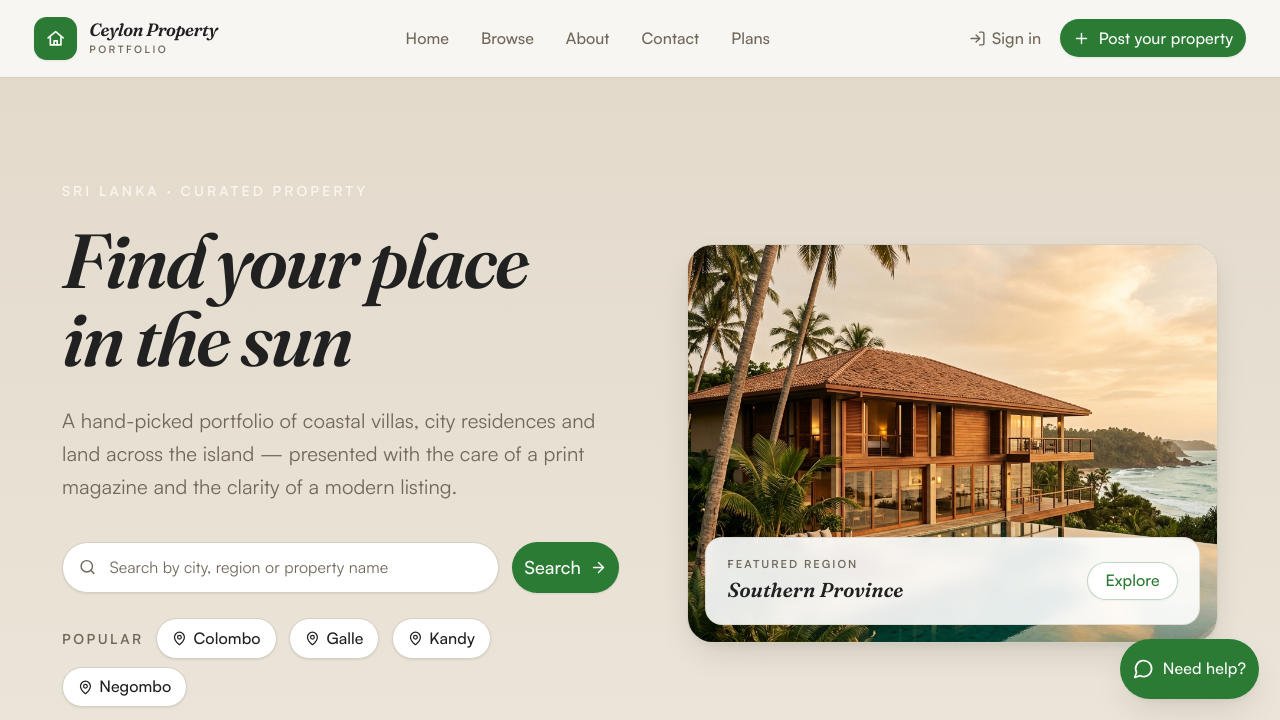
Test case: public home content › answers a question about plans and a question about posting
Click the button with test id "help_chatbot.open_button". click: (1190, 669)
box: [1120, 639, 1259, 699]
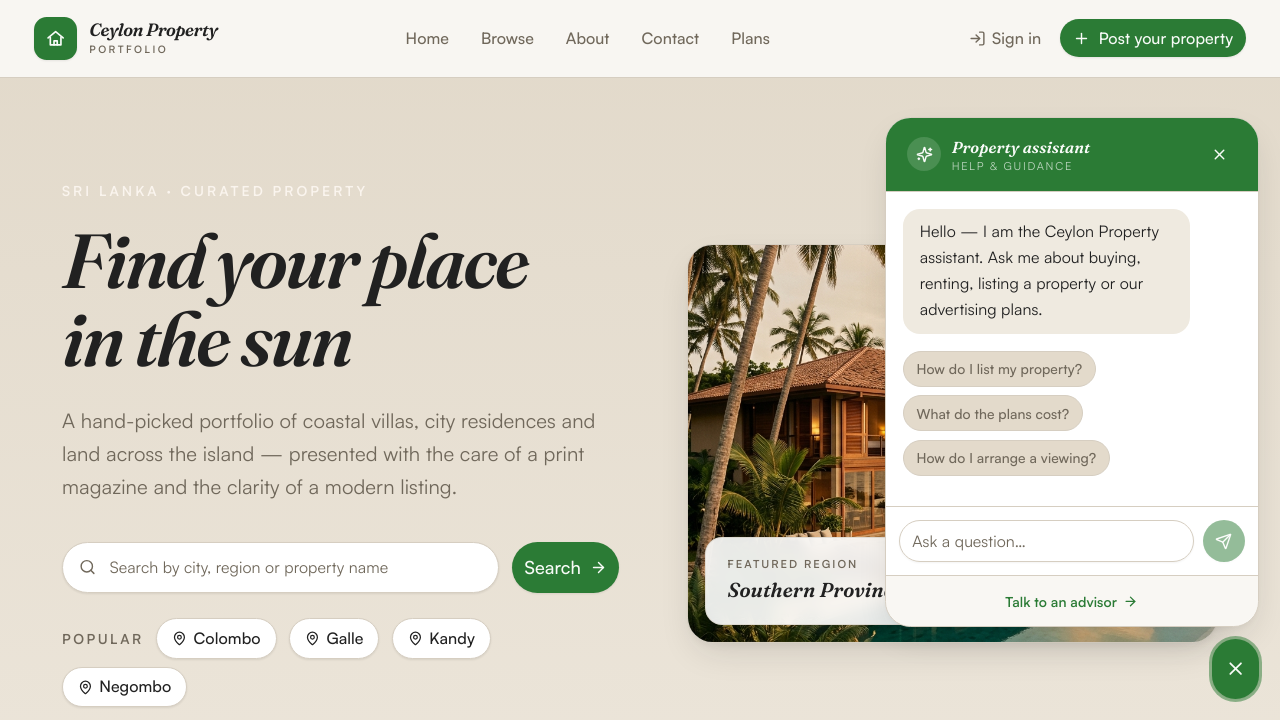
Now the element with test id "help_chatbot.panel" is shown, box [885, 116, 1259, 626]
# A question about plans is answered from the matching entry.
Type "What do the plans cost?" into the field with test id "help_chatbot.input". click: (1046, 541)
box: [898, 520, 1194, 562]
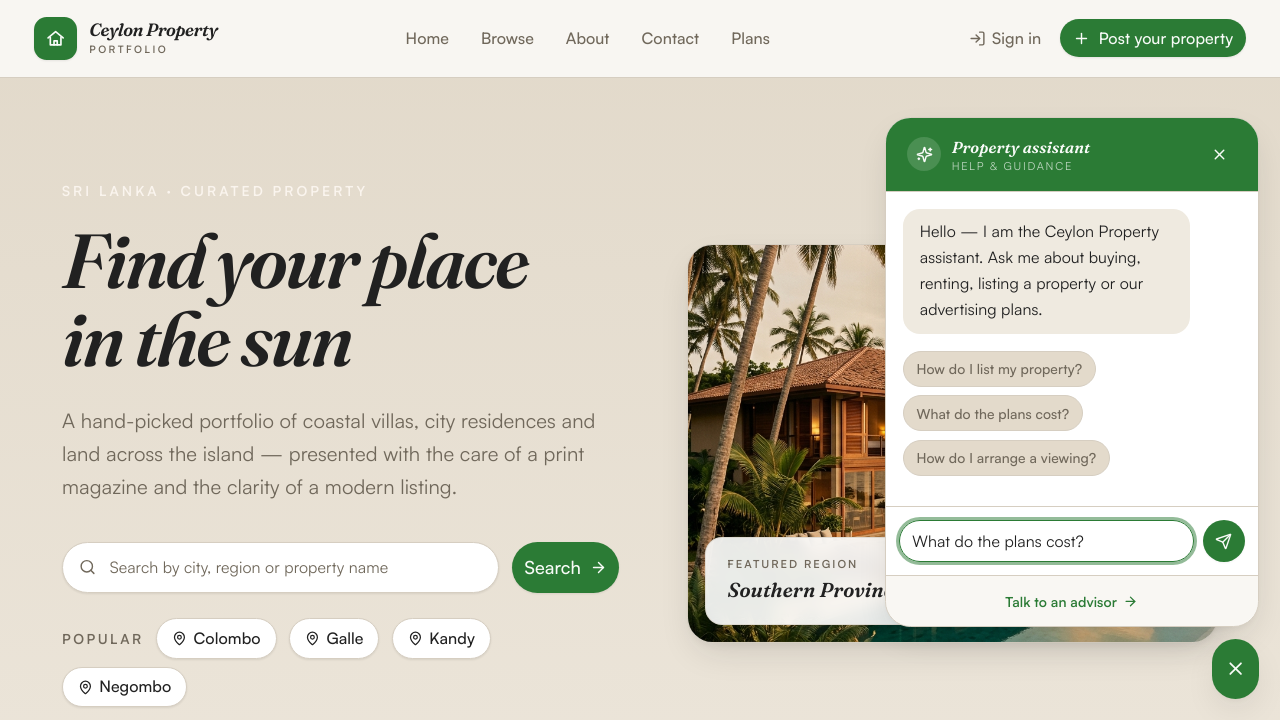
Click the button with test id "help_chatbot.send_button". click: (1224, 541)
box: [1202, 520, 1245, 562]
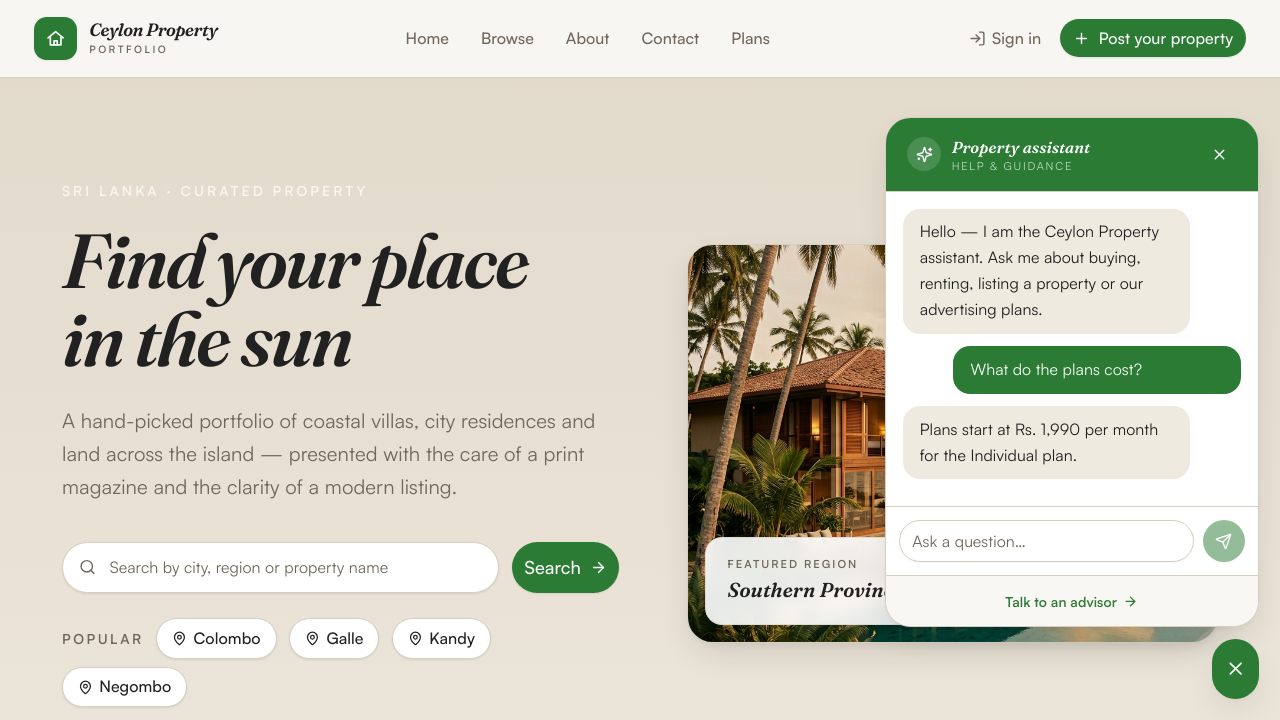
Now the text "Plans start at Rs. 1,990 per month for the Individual plan." is shown, box [903, 406, 1190, 479]
# A question about posting a property is answered from its own entry.
Type "How do I list my property?" into the field with test id "help_chatbot.input". click: (1046, 541)
box: [898, 520, 1194, 562]
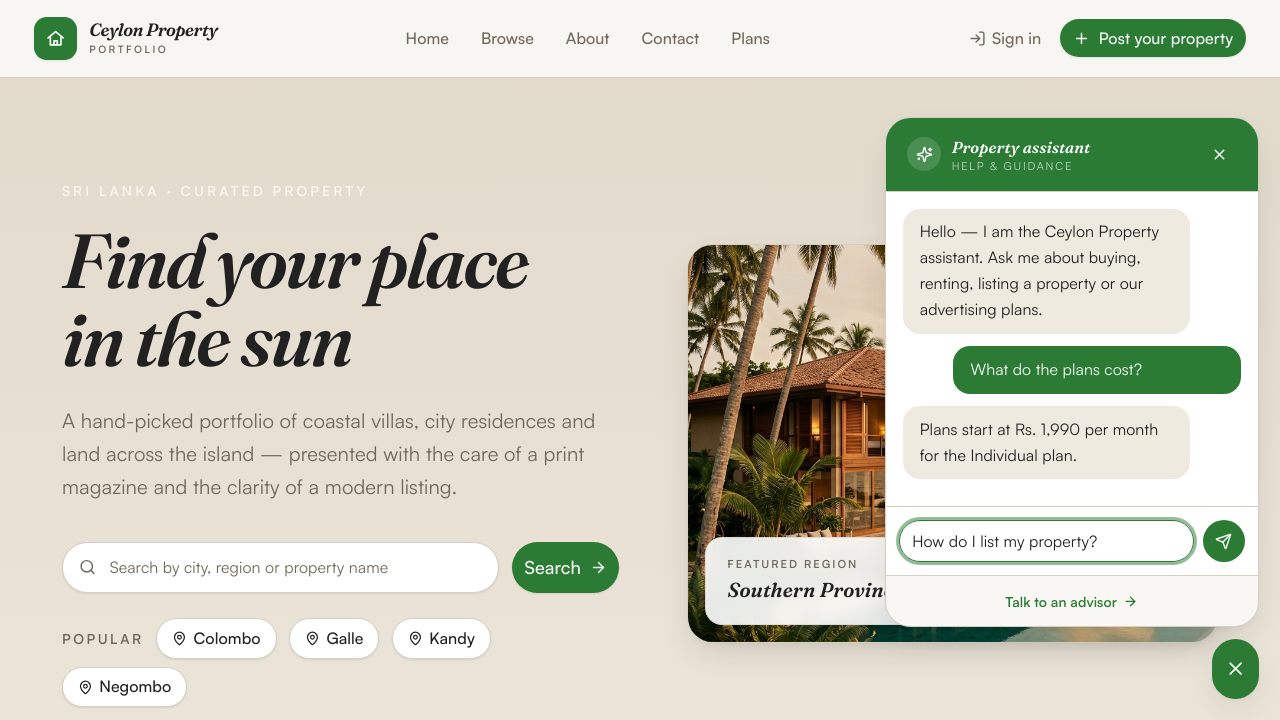
Click the button with test id "help_chatbot.send_button". click: (1224, 541)
box: [1202, 520, 1245, 562]
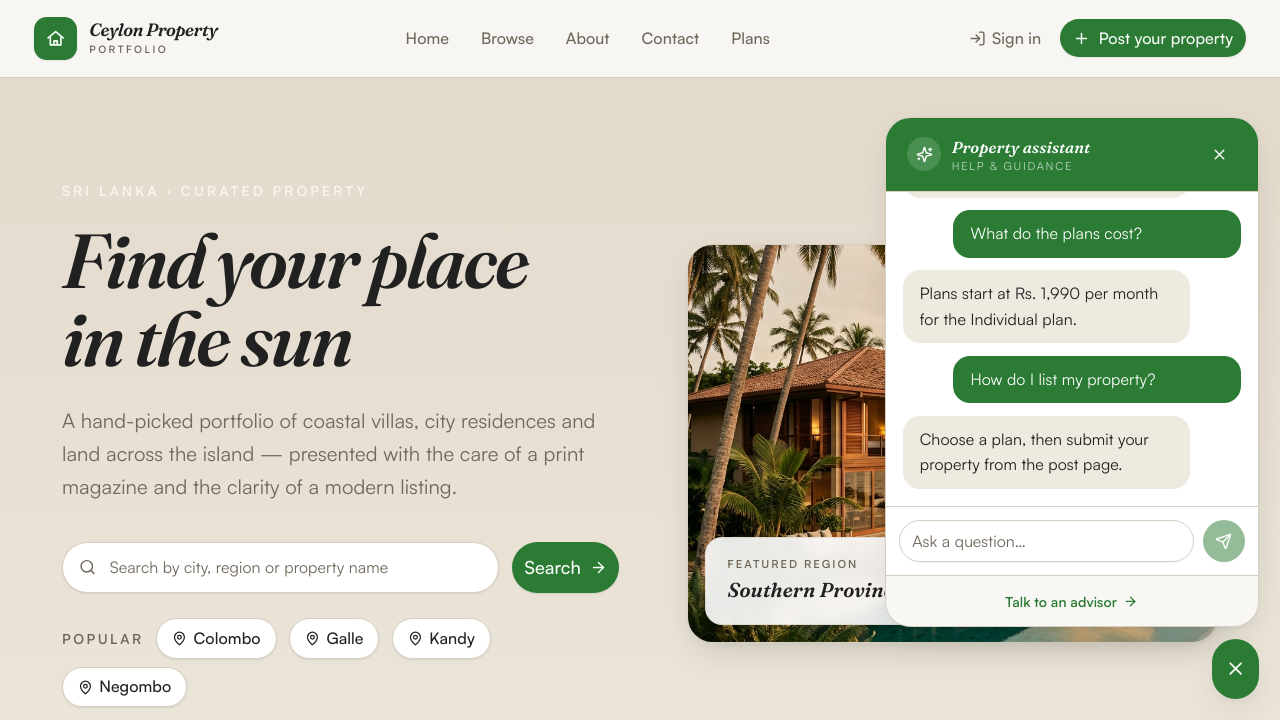
Now the text "Choose a plan, then submit your property from the post page." is shown, box [903, 416, 1190, 489]
